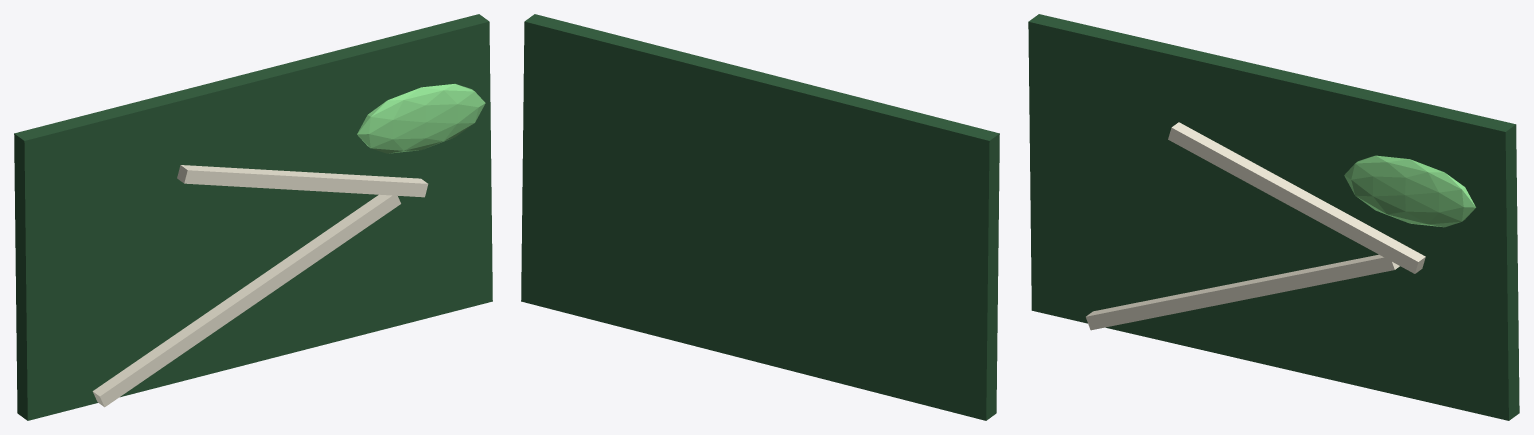
File: 04_weathering_wear_overlay_4.glb
3 views of the same model, side by side, from view 1: azimuth 30°, elevation 25°; view 2: azimuth 150°, elevation 25°; view 3: azimuth 330°, elevation 25° (orthographic). The views are drawn at different scales.
Parts seen in each view (by area): view 1: wear_plate, scratch_a, rust_or_moss_spot, scratch_b; view 2: wear_plate; view 3: wear_plate, rust_or_moss_spot, scratch_b, scratch_a.
Part boxes in pixels (x1,y1,x2,y2): wear_plate: [14, 14, 492, 420]; scratch_a: [92, 194, 400, 407]; rust_or_moss_spot: [357, 84, 485, 153]; scratch_b: [177, 165, 428, 197]; wear_plate: [521, 14, 999, 420]; wear_plate: [1028, 14, 1519, 420]; rust_or_moss_spot: [1344, 155, 1475, 227]; scratch_b: [1168, 122, 1425, 273]; scratch_a: [1086, 254, 1399, 330].
Size of the model in its own units: 1.31 by 0.7659 by 0.134.
